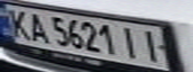1: (97, 21, 118, 56)
2: (78, 19, 100, 54)
5: (45, 15, 72, 47)
6: (63, 17, 84, 51)
A: (21, 10, 51, 44)
I: (136, 28, 166, 64), (118, 25, 145, 60)
K: (0, 6, 33, 39)
